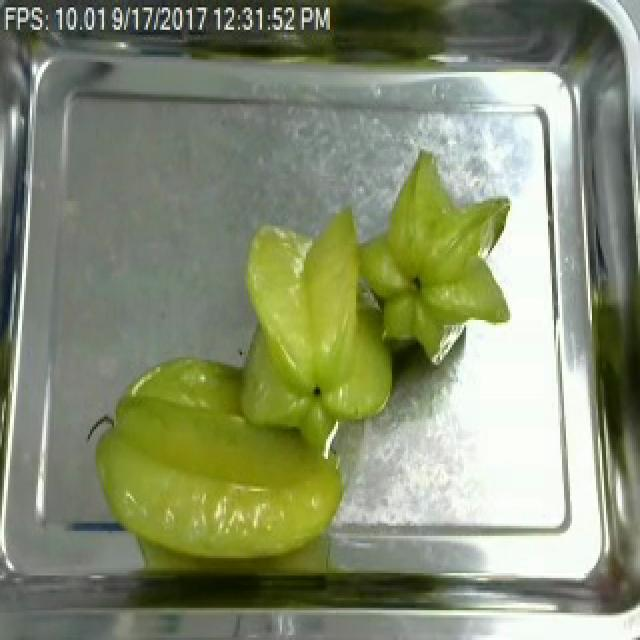fruit: (82, 348, 352, 576), (228, 201, 406, 437), (372, 144, 524, 335)
